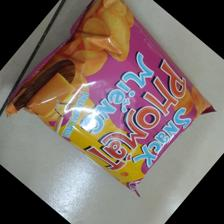Oishi_phomat: (3, 1, 218, 194)
